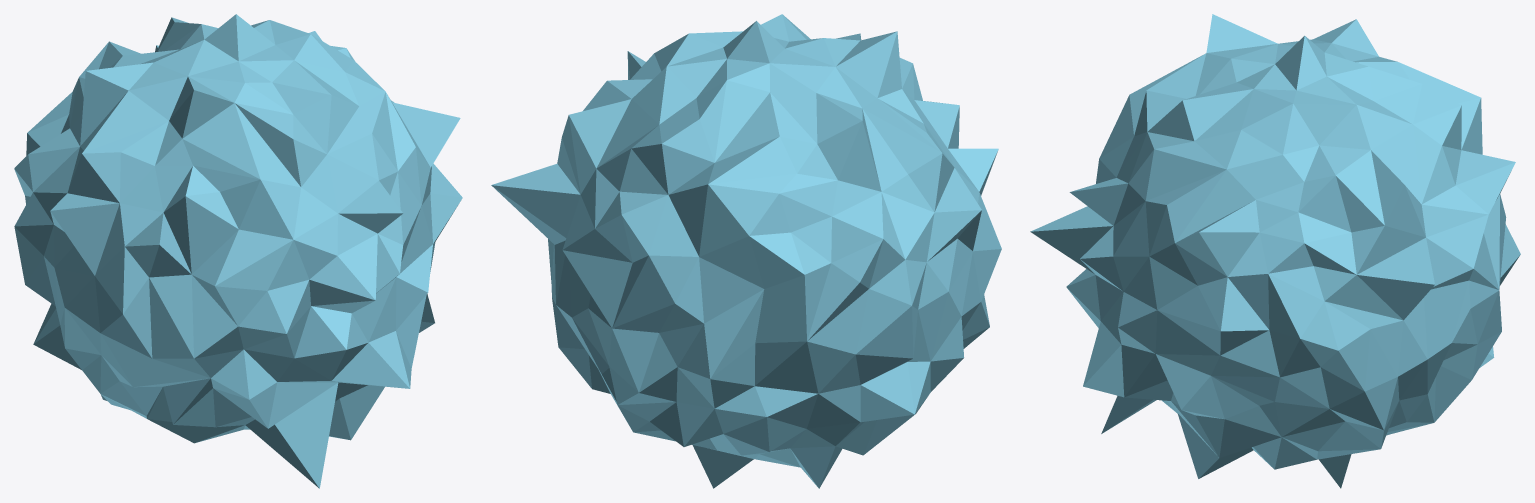
Rendered from icy_planet.fbx.
3 renders of one model, left to right at view 1: azimuth 30°, elevation 25°; view 2: azimuth 150°, elevation 25°; view 3: azimuth 270°, elevation 25°, orthographic. The views are drawn at different scales.
Visible parts, largest first — view 1: icy_planet; view 2: icy_planet; view 3: icy_planet.
Boxes of the visible parts, x1,y1,x2,y2 form: icy_planet: (14, 14, 462, 488); icy_planet: (491, 14, 1001, 488); icy_planet: (1030, 14, 1520, 488).
Bounding box in the file's own units: 202 × 216 × 217.
